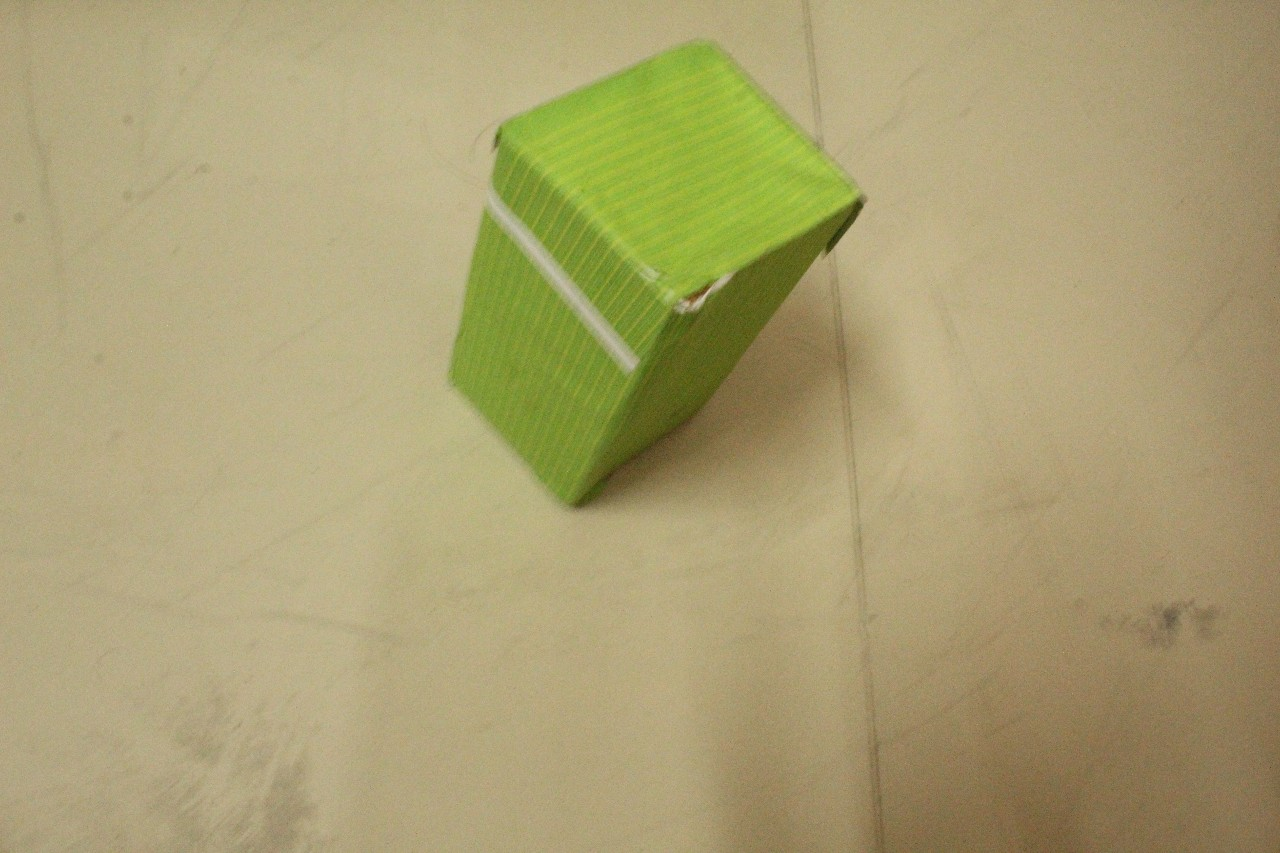green: (423, 13, 885, 534)
